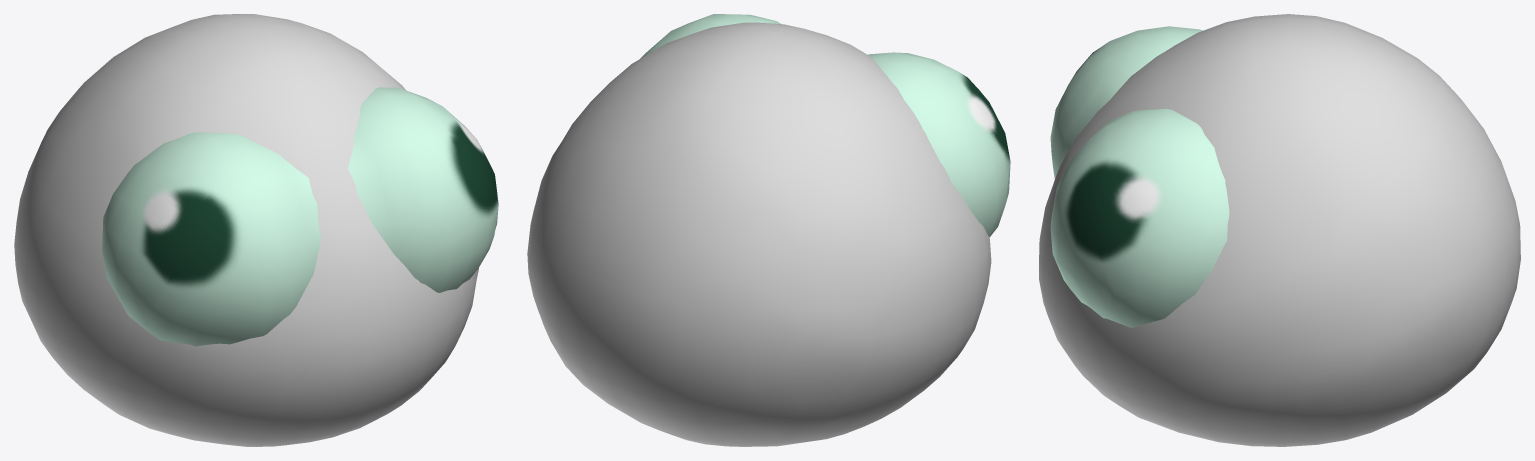
File: jelly.fbx
3 views of the same model, side by side, from view 1: azimuth 30°, elevation 25°; view 2: azimuth 150°, elevation 25°; view 3: azimuth 270°, elevation 25° (orthographic).
Parts seen in each view (by area): view 1: jelly; view 2: jelly; view 3: jelly.
Boxes of the visible parts, box(x1,y1,x2,y2) form: jelly: box(14, 14, 498, 446); jelly: box(527, 14, 1010, 446); jelly: box(1039, 14, 1520, 446).
Bounding box in the file's own units: 193 × 176 × 200.
